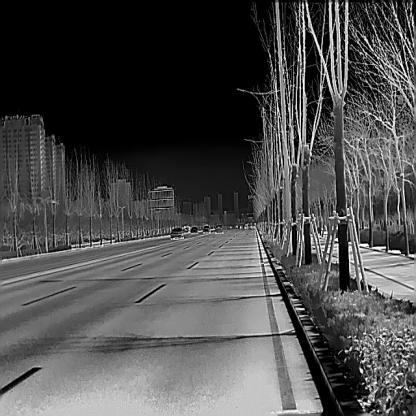car: (170, 227, 183, 240), (202, 225, 210, 233), (215, 225, 223, 233), (190, 226, 198, 233)
